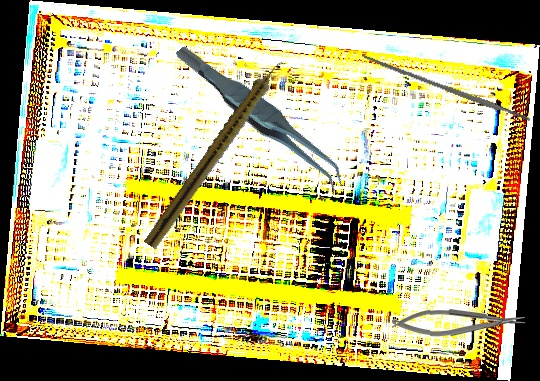Handpiece: (142, 55, 290, 253)
Needle Holder: (391, 307, 526, 339)
Scalpel Handle: (359, 52, 534, 125)
Tissue Forceps: (173, 16, 350, 218)
